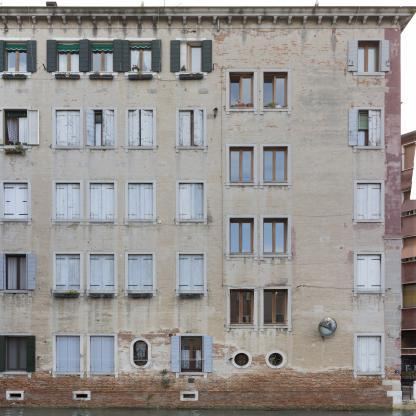Blind: (55, 110, 80, 146), (128, 110, 153, 146), (55, 183, 80, 219), (128, 183, 153, 219), (128, 254, 153, 290), (55, 254, 80, 290), (56, 335, 80, 372), (91, 335, 115, 372), (179, 110, 203, 146), (3, 183, 27, 219), (90, 183, 114, 219), (179, 183, 203, 219), (179, 254, 203, 290), (90, 254, 114, 290), (357, 336, 381, 372), (357, 255, 381, 291), (357, 183, 381, 219), (102, 109, 114, 146), (27, 109, 39, 146), (368, 110, 380, 146), (348, 109, 359, 146), (46, 39, 58, 72), (202, 336, 213, 372), (378, 40, 390, 72), (26, 253, 36, 290), (171, 336, 181, 372), (86, 108, 95, 146), (26, 336, 35, 372), (82, 40, 92, 72), (202, 40, 212, 72), (152, 40, 162, 72), (170, 40, 180, 72), (27, 40, 37, 72), (348, 40, 358, 71), (79, 39, 88, 72), (113, 39, 122, 72), (122, 40, 131, 71), (0, 253, 6, 290), (0, 335, 6, 372), (0, 40, 6, 72), (0, 109, 5, 145)
Building Outline: (0, 1, 416, 410)
Facade: (1, 13, 402, 411)
Floor: (0, 240, 207, 316), (0, 167, 207, 240), (0, 95, 207, 167), (208, 116, 324, 191), (208, 191, 324, 263), (208, 263, 324, 334), (324, 92, 402, 168), (324, 240, 402, 316), (324, 168, 402, 240)
Floor Slab: (0, 234, 207, 240), (0, 311, 207, 317), (0, 162, 207, 167), (0, 90, 207, 95), (208, 257, 324, 263), (208, 328, 324, 334), (208, 186, 324, 191), (208, 111, 324, 116), (324, 162, 402, 168), (324, 311, 402, 316), (324, 235, 402, 240), (324, 87, 402, 92)
Ground Floor: (0, 317, 207, 409), (208, 334, 324, 409), (324, 316, 402, 409)
Molding: (0, 15, 413, 26)
Sill: (0, 145, 32, 153), (51, 72, 85, 79), (352, 72, 386, 79), (51, 371, 85, 378), (174, 290, 208, 297), (225, 325, 259, 332), (259, 325, 293, 332), (225, 108, 259, 115), (174, 72, 208, 79), (85, 72, 119, 79), (353, 146, 386, 153), (353, 290, 386, 297), (124, 290, 157, 297), (175, 218, 208, 225), (124, 218, 157, 225), (175, 146, 208, 153), (225, 182, 258, 189), (259, 182, 292, 189), (259, 108, 292, 115), (124, 72, 157, 79), (0, 371, 32, 378), (0, 72, 32, 79), (0, 290, 32, 297), (0, 218, 32, 225), (352, 219, 386, 225), (85, 290, 119, 296), (259, 254, 293, 260), (225, 254, 259, 260), (85, 219, 119, 225), (85, 146, 119, 152), (353, 372, 386, 378), (175, 372, 208, 378), (86, 372, 119, 378), (51, 290, 84, 296), (51, 219, 84, 225), (51, 146, 84, 152), (124, 146, 157, 152)
Top Floor: (0, 19, 207, 95), (208, 20, 324, 116), (324, 20, 402, 92)
Window: (263, 289, 288, 325), (229, 289, 254, 325), (3, 109, 28, 145), (55, 110, 80, 146), (128, 110, 153, 146), (55, 254, 80, 290), (128, 254, 153, 290), (55, 183, 80, 219), (128, 183, 153, 219), (4, 335, 28, 372), (56, 335, 80, 372), (91, 335, 115, 372), (358, 109, 382, 146), (263, 72, 288, 107), (229, 72, 254, 107), (263, 147, 288, 182), (229, 147, 254, 182), (263, 218, 288, 253), (229, 218, 254, 253), (90, 110, 114, 146), (179, 110, 203, 146), (180, 336, 204, 372), (357, 336, 381, 372), (357, 255, 381, 291), (357, 183, 381, 219), (3, 254, 27, 290), (90, 254, 114, 290), (179, 254, 203, 290), (3, 183, 27, 219), (90, 183, 114, 219), (179, 183, 203, 219), (358, 40, 382, 72), (180, 41, 204, 72), (4, 41, 28, 72), (56, 41, 80, 72), (90, 41, 114, 72), (129, 41, 153, 72), (133, 340, 148, 366)
